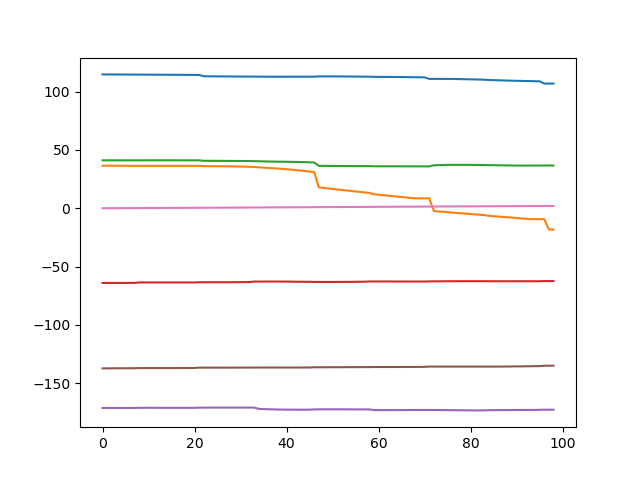Too_Slow: (1, 1, 640, 475)
